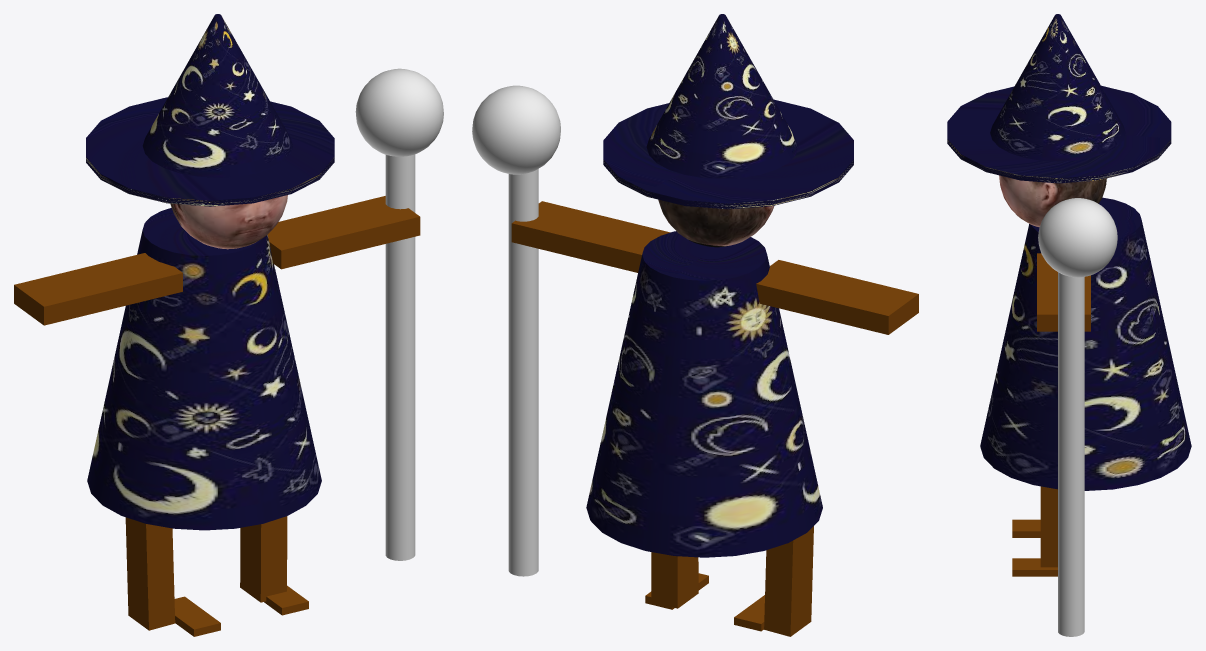
File: Wizzard.FBX
3 views of the same model, side by side, from view 1: azimuth 30°, elevation 25°; view 2: azimuth 150°, elevation 25°; view 3: azimuth 270°, elevation 25° (orthographic). The views are drawn at different scales.
Parts seen in each view (by area): view 1: Cone002, Cone001, Cylinder002, Cylinder001, Box007, Box006, Sphere002, Box004, Sphere001, Box003, Box002, Box001; view 2: Cone002, Cone001, Cylinder002, Cylinder001, Box007, Sphere002, Box006, Box004, Sphere001, Box003, Box002; view 3: Cone002, Cone001, Cylinder002, Cylinder001, Sphere002, Sphere001, Box006, Box003, Box001, Box002.
Boxes of the visible parts, x1,y1,x2,y2 form: Cone002: (87,208,321,530); Cone001: (142,14,292,177); Cylinder002: (86,97,334,206); Cylinder001: (385,154,415,560); Box007: (14,253,182,325); Box006: (267,196,420,269); Sphere002: (355,68,443,156); Box004: (125,517,175,630); Sphere001: (170,195,287,249); Box003: (240,516,287,602); Box002: (174,596,220,636); Box001: (264,585,308,615); Cone002: (586,231,822,557); Cone001: (646,14,798,178); Cylinder002: (603,99,853,209); Cylinder001: (508,169,538,576); Box007: (756,260,918,334); Sphere002: (472,85,560,174); Box006: (511,201,670,272); Box004: (764,526,813,636); Sphere001: (658,199,774,247); Box003: (651,552,698,608); Box002: (734,595,764,631); Cone002: (980,197,1191,490); Cone001: (990,14,1125,161); Cylinder002: (947,85,1171,183); Cylinder001: (1058,272,1084,636); Sphere002: (1038,198,1117,277); Sphere001: (999,175,1106,227); Box006: (1037,253,1090,331); Box003: (1040,486,1057,567); Box001: (1012,558,1057,576); Box002: (1012,519,1040,537).
Bounding box in the file's own units: 20.44 × 27.77 × 11.55.
Materials: 3 (2 with a texture image).
